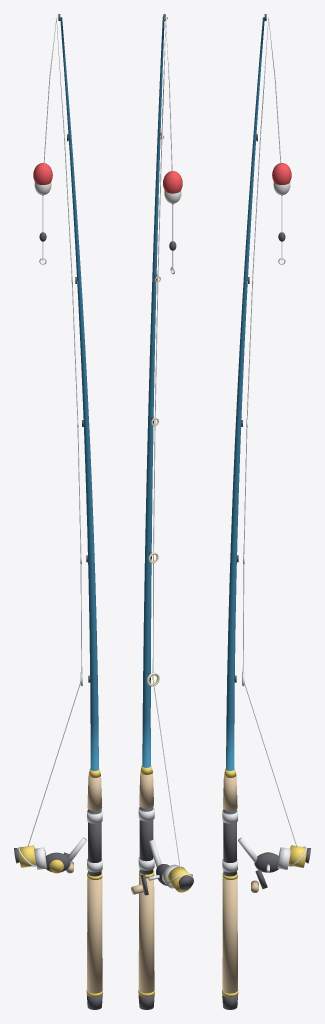
The model's file is FishingRod.glb.
The picture shows the model from 3 angles, left to right: view 1: azimuth 90°, elevation 25°; view 2: azimuth 210°, elevation 25°; view 3: azimuth 270°, elevation 25°; orthographic projection.
Parts seen in each view (by area): view 1: RodBlank, MainGrip, FishingLine, ReelSeatBody, ForeGrip, BobberTop, ReelSpool, ReelGearbox, ReelRotor; view 2: RodBlank, MainGrip, FishingLine, ReelSeatBody, ForeGrip, BobberTop, ReelSpool, ButtCap; view 3: RodBlank, MainGrip, FishingLine, ReelSeatBody, ForeGrip, ReelGearbox, BobberTop, ReelSpool, ReelRotor.
Boxes of the visible parts, box(x1,y1,x2,y2) form: RodBlank: box(60, 17, 98, 770); MainGrip: box(87, 878, 102, 993); FishingLine: box(27, 17, 82, 846); ReelSeatBody: box(88, 809, 101, 876); ForeGrip: box(87, 776, 102, 810); BobberTop: box(33, 163, 52, 184); ReelSpool: box(18, 845, 36, 867); ReelGearbox: box(45, 852, 70, 872); ReelRotor: box(34, 847, 47, 869); RodBlank: box(142, 17, 164, 767); MainGrip: box(138, 876, 154, 993); FishingLine: box(152, 19, 180, 869); ReelSeatBody: box(139, 806, 153, 874); ForeGrip: box(139, 773, 153, 808); BobberTop: box(163, 171, 182, 193); ReelSpool: box(167, 866, 192, 892); ButtCap: box(138, 994, 154, 1009); RodBlank: box(226, 17, 264, 770); MainGrip: box(222, 878, 237, 993); FishingLine: box(242, 17, 297, 846); ReelSeatBody: box(223, 809, 236, 876); ForeGrip: box(222, 776, 237, 810); ReelGearbox: box(254, 852, 279, 872); BobberTop: box(272, 163, 291, 184); ReelSpool: box(288, 845, 306, 867); ReelRotor: box(277, 847, 290, 869).
Bounding box in the file's own units: 0.0948 × 2.44 × 0.1982.
